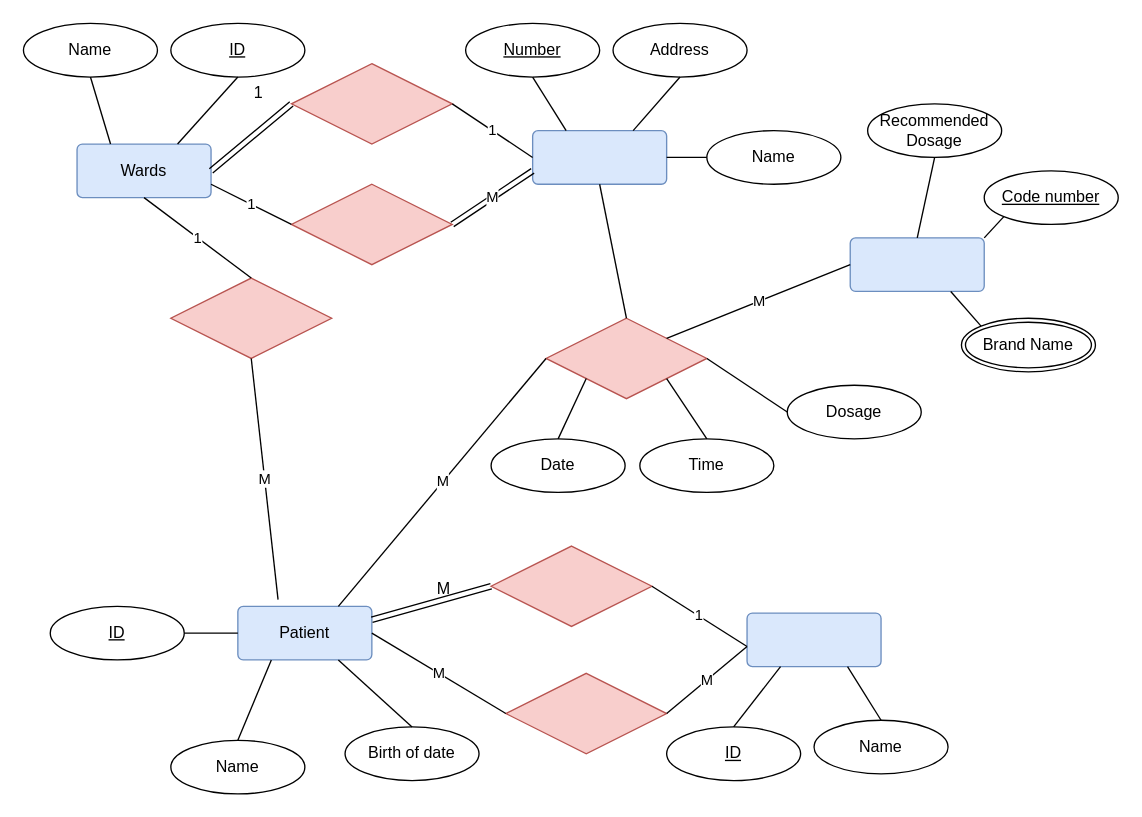
Image size: 1142x817. Some labels were removed from this diagram. Each missing label, with the centre of its shape:
"Assign" goes at point 571,585.
"Consultant" goes at point 813,639.
"Drug" goes at point 916,264.
"Exmine" goes at point 586,713.
"Gives" goes at point 626,358.
"Host" goes at point 251,317.
"Nurse" goes at point 599,156.
"Serve" goes at point 371,224.
"Supervise" goes at point 371,103.
